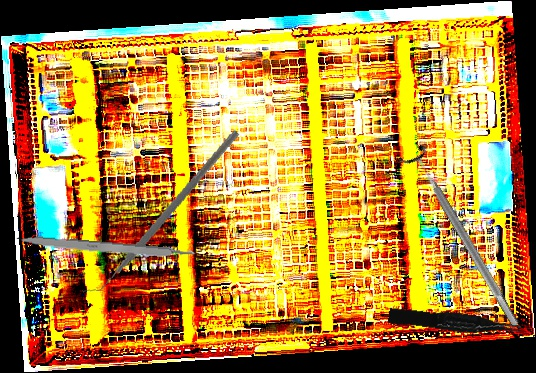Chopper: (79, 110, 241, 313)
Fixation Ring: (397, 142, 530, 334)
Scalpel Handle: (15, 234, 197, 262)
Tissue Forceps: (387, 302, 522, 344)
